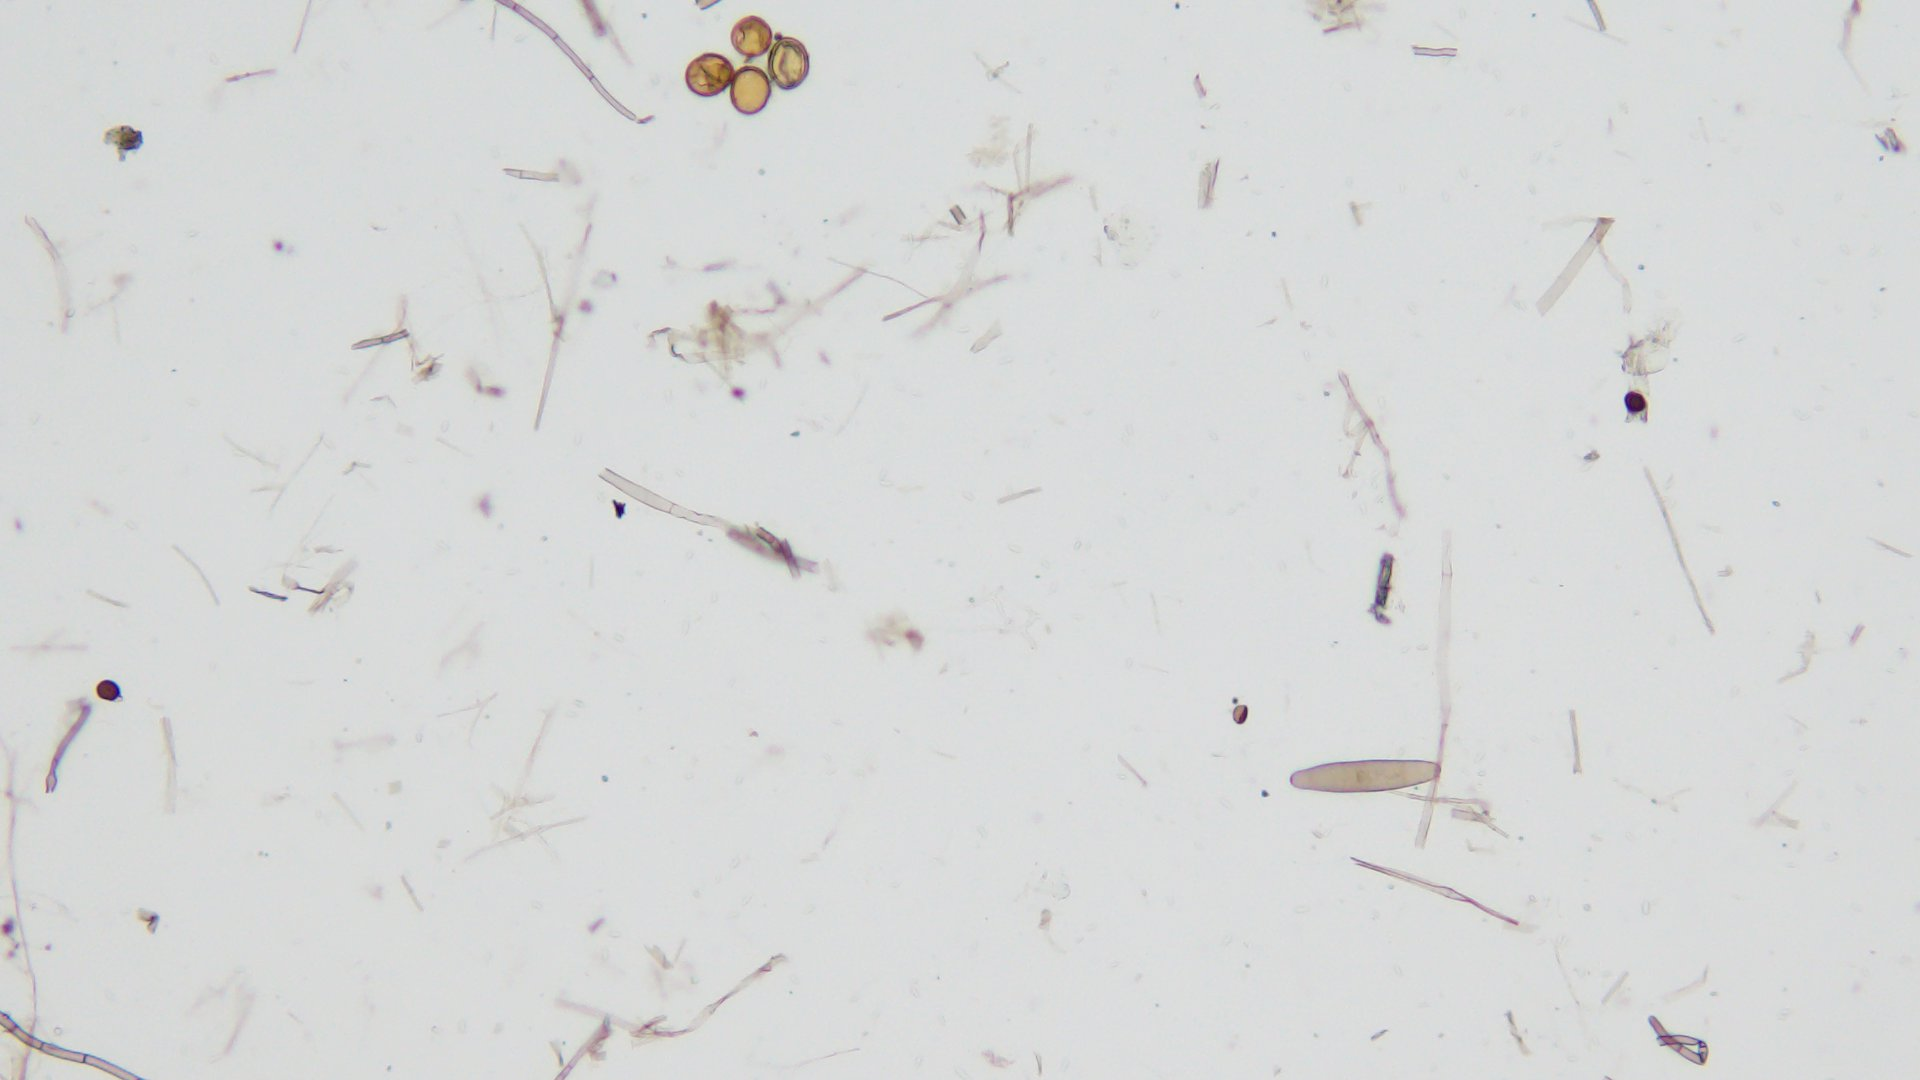dbb_spore: (1288, 757, 1439, 795)
shs_spore: (1625, 392, 1648, 414), (96, 679, 119, 702)
xb_spore: (684, 51, 737, 100), (766, 40, 808, 91), (732, 69, 771, 115), (731, 18, 774, 55)
